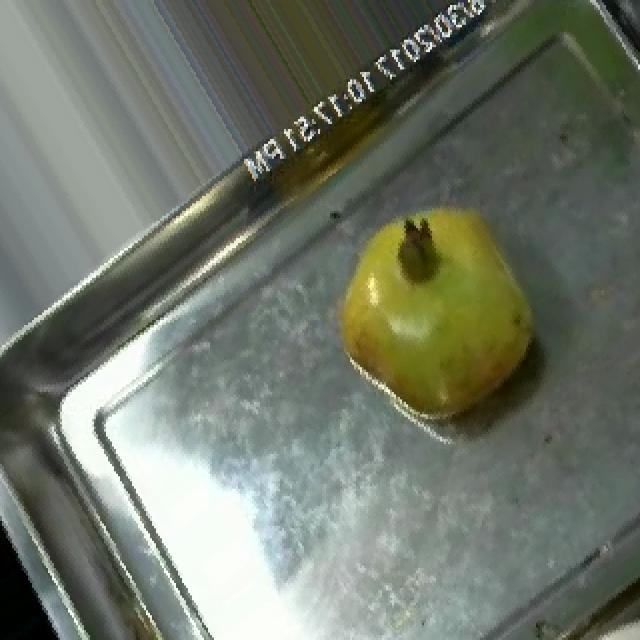fruit: (298, 176, 562, 457)
